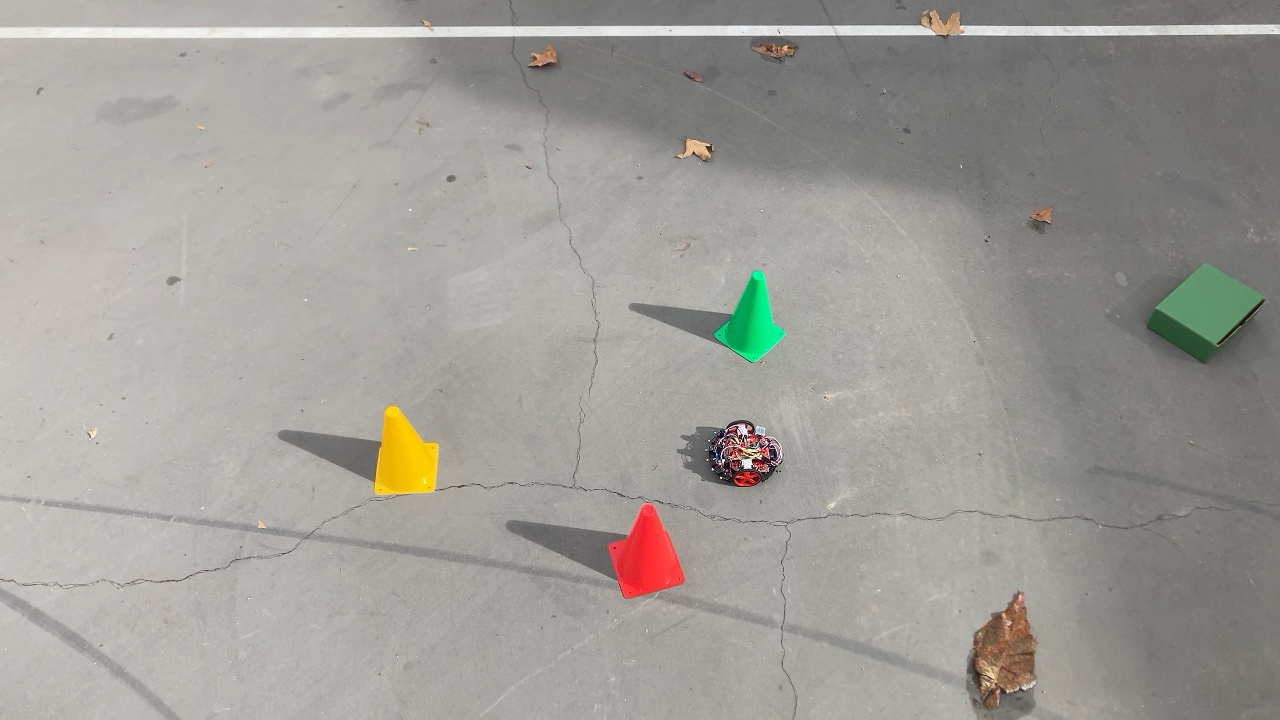green_cone: (714, 268, 792, 365)
red_cone: (603, 503, 690, 603)
robot: (703, 420, 786, 487)
yellow_cone: (372, 404, 443, 495)
